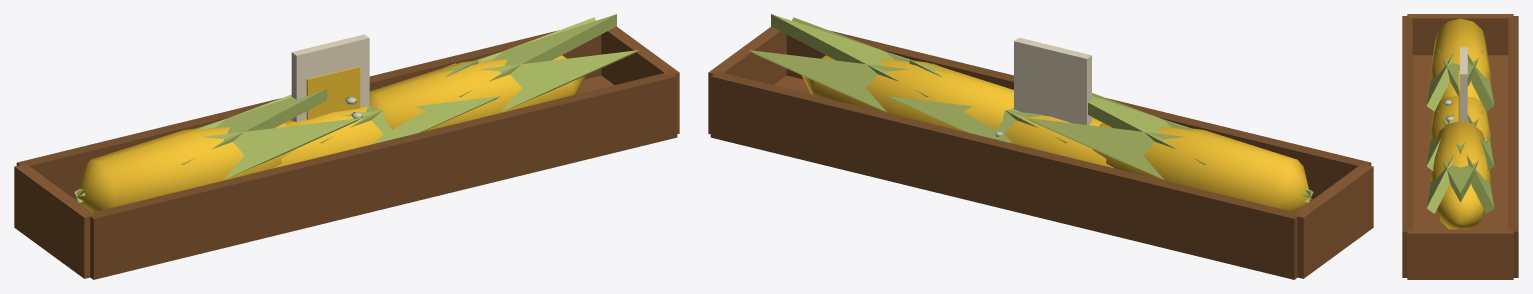
The model's file is Grain_Corn.fbx.
The picture shows the model from 3 angles, left to right: view 1: azimuth 30°, elevation 25°; view 2: azimuth 150°, elevation 25°; view 3: azimuth 270°, elevation 25°; orthographic projection. The views are drawn at different scales.
Visible parts, largest first — view 1: Grain_Corn__Stack, Grain_Corn__Seed, Grain_Corn; view 2: Grain_Corn__Stack, Grain_Corn__Seed, Grain_Corn; view 3: Grain_Corn__Stack, Grain_Corn, Grain_Corn__Seed, Grain_Corn__Rotten.
Boxes of the visible parts, box(x1,y1,x2,y2) form: Grain_Corn__Stack: box(14, 14, 679, 279); Grain_Corn__Seed: box(291, 34, 369, 122); Grain_Corn: box(273, 60, 500, 168); Grain_Corn__Stack: box(708, 14, 1373, 279); Grain_Corn__Seed: box(1014, 37, 1091, 125); Grain_Corn: box(887, 60, 1114, 168); Grain_Corn__Stack: box(1402, 14, 1518, 279); Grain_Corn: box(1426, 95, 1494, 171); Grain_Corn__Seed: box(1458, 47, 1467, 122); Grain_Corn__Rotten: box(1443, 100, 1487, 141).
Size of the model in its own units: 0.408 by 0.09 by 0.0913.
